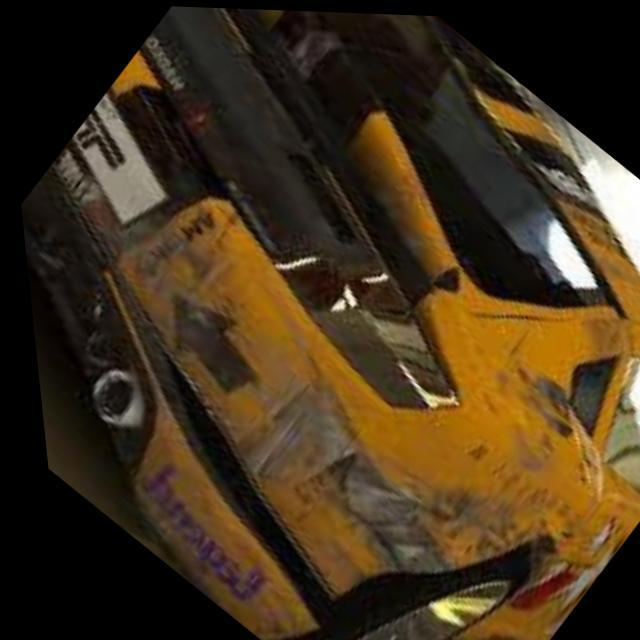dent: (420, 12, 574, 187), (463, 346, 553, 459)
rub: (209, 374, 518, 558), (68, 172, 239, 330), (269, 15, 358, 84)
